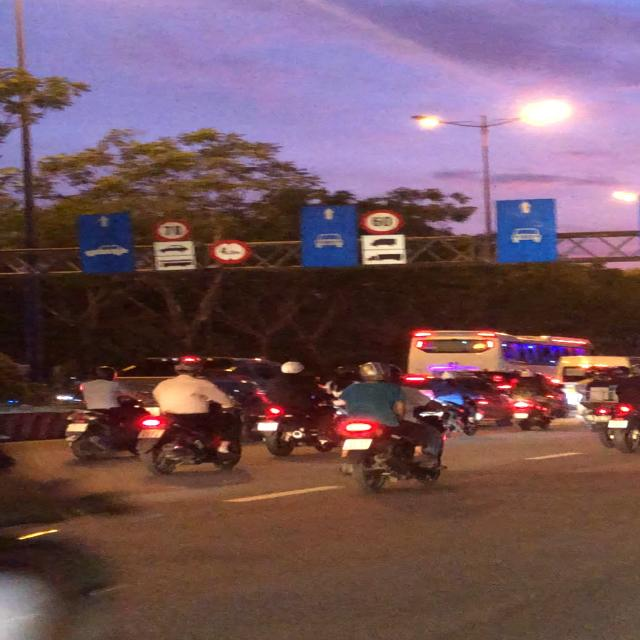Bien bao toc do toi da cho phep: (359, 210, 410, 237), (147, 218, 198, 245)
